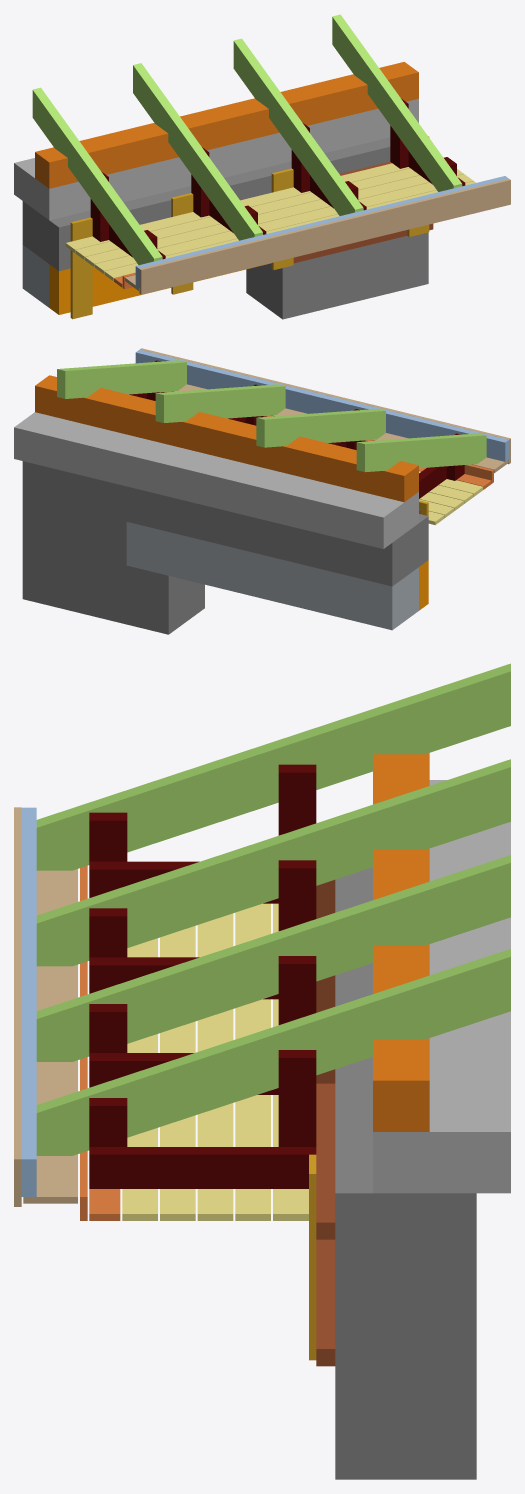
Rendered from perimetr.glb.
The picture shows the model from 3 angles, top to bottom: view 1: azimuth 30°, elevation 25°; view 2: azimuth 150°, elevation 25°; view 3: azimuth 270°, elevation 25°; orthographic projection. The views are drawn at different scales.
Visible parts, largest first — view 1: РљРѕРјРїРѕРЅР_РЅС__377.001, РљРѕРјРїРѕРЅР_РЅС__407.001, РљРѕРјРїРѕРЅР_РЅС__383.001, РљРѕРјРїРѕРЅР_РЅС__378.001, РљРѕРјРїРѕРЅР_РЅС__381.001, РљРѕРјРїРѕРЅР_РЅС__382.001, РљРѕРјРїРѕРЅР_РЅС__379.001, РљРѕРјРїРѕРЅР_РЅС__380.001, РљРѕРјРїРѕРЅР_РЅС__386.001, РљРѕРјРїРѕРЅР_РЅС__390.001, РљРѕРјРїРѕРЅР_РЅС__391.001, РљРѕРјРїРѕРЅР_РЅС__385.001 (+12 smaller); view 2: РљРѕРјРїРѕРЅР_РЅС__377.001, РљРѕРјРїРѕРЅР_РЅС__378.001, РљРѕРјРїРѕРЅР_РЅС__407.001, РљРѕРјРїРѕРЅР_РЅС__384.001, РљРѕРјРїРѕРЅР_РЅС__401.001, РљРѕРјРїРѕРЅР_РЅС__379.001, РљРѕРјРїРѕРЅР_РЅС__381.001, РљРѕРјРїРѕРЅР_РЅС__380.001, РљРѕРјРїРѕРЅР_РЅС__382.001, РљРѕРјРїРѕРЅР_РЅС__383.001, РљРѕРјРїРѕРЅР_РЅС__387.001, РљРѕРјРїРѕРЅР_РЅС__406.001 (+5 smaller); view 3: РљРѕРјРїРѕРЅР_РЅС__377.001, РљРѕРјРїРѕРЅР_РЅС__379.001, РљРѕРјРїРѕРЅР_РЅС__380.001, РљРѕРјРїРѕРЅР_РЅС__382.001, РљРѕРјРїРѕРЅР_РЅС__381.001, РљРѕРјРїРѕРЅР_РЅС__378.001, РљРѕРјРїРѕРЅР_РЅС__407.001, РљРѕРјРїРѕРЅР_РЅС__403.001, РљРѕРјРїРѕРЅР_РЅС__387.001, РљРѕРјРїРѕРЅР_РЅС__401.001, РљРѕРјРїРѕРЅР_РЅС__391.001, РљРѕРјРїРѕРЅР_РЅС__390.001 (+20 smaller).
Part boxes in pixels (box(x1,y1,x2,y2)): РљРѕРјРїРѕРЅР_РЅС__377.001: box(22, 137, 428, 319); РљРѕРјРїРѕРЅР_РЅС__407.001: box(35, 62, 418, 188); РљРѕРјРїРѕРЅР_РЅС__383.001: box(139, 178, 510, 294); РљРѕРјРїРѕРЅР_РЅС__378.001: box(14, 98, 418, 220); РљРѕРјРїРѕРЅР_РЅС__381.001: box(233, 38, 363, 215); РљРѕРјРїРѕРЅР_РЅС__382.001: box(332, 14, 462, 191); РљРѕРјРїРѕРЅР_РЅС__379.001: box(32, 87, 162, 264); РљРѕРјРїРѕРЅР_РЅС__380.001: box(133, 63, 262, 240); РљРѕРјРїРѕРЅР_РЅС__386.001: box(94, 174, 473, 273); РљРѕРјРїРѕРЅР_РЅС__390.001: box(85, 169, 463, 267); РљРѕРјРїРѕРЅР_РЅС__391.001: box(75, 168, 419, 259); РљРѕРјРїРѕРЅР_РЅС__385.001: box(49, 263, 271, 314); РљРѕРјРїРѕРЅР_РЅС__377.001: box(22, 461, 428, 634); РљРѕРјРїРѕРЅР_РЅС__378.001: box(14, 412, 418, 548); РљРѕРјРїРѕРЅР_РЅС__407.001: box(35, 375, 418, 502); РљРѕРјРїРѕРЅР_РЅС__384.001: box(126, 522, 418, 630); РљРѕРјРїРѕРЅР_РЅС__401.001: box(135, 349, 508, 461); РљРѕРјРїРѕРЅР_РЅС__379.001: box(356, 433, 486, 472); РљРѕРјРїРѕРЅР_РЅС__381.001: box(155, 384, 285, 422); РљРѕРјРїРѕРЅР_РЅС__380.001: box(256, 409, 385, 447); РљРѕРјРїРѕРЅР_РЅС__382.001: box(57, 360, 186, 398); РљРѕРјРїРѕРЅР_РЅС__383.001: box(140, 348, 510, 464); РљРѕРјРїРѕРЅР_РЅС__387.001: box(172, 384, 508, 472); РљРѕРјРїРѕРЅР_РЅС__406.001: box(419, 466, 446, 498); РљРѕРјРїРѕРЅР_РЅС__377.001: box(335, 867, 476, 1479); РљРѕРјРїРѕРЅР_РЅС__379.001: box(36, 663, 510, 870); РљРѕРјРїРѕРЅР_РЅС__380.001: box(36, 759, 510, 966); РљРѕРјРїРѕРЅР_РЅС__382.001: box(36, 949, 510, 1155); РљРѕРјРїРѕРЅР_РЅС__381.001: box(36, 855, 510, 1061); РљРѕРјРїРѕРЅР_РЅС__378.001: box(373, 780, 510, 1193); РљРѕРјРїРѕРЅР_РЅС__407.001: box(373, 753, 429, 1131); РљРѕРјРїРѕРЅР_РЅС__403.001: box(89, 1147, 316, 1188); РљРѕРјРїРѕРЅР_РЅС__387.001: box(23, 869, 77, 1203); РљРѕРјРїРѕРЅР_РЅС__401.001: box(21, 807, 36, 1196); РљРѕРјРїРѕРЅР_РЅС__391.001: box(235, 903, 270, 1220); РљРѕРјРїРѕРЅР_РЅС__390.001: box(197, 913, 233, 1220).
Bounding box in the file's own units: 2.21 × 1.41 × 1.32.
